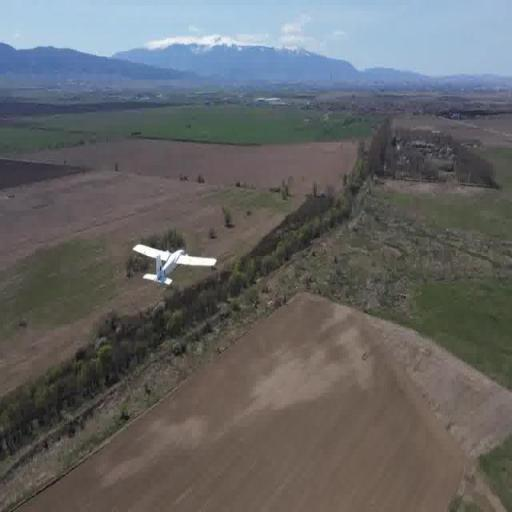uav: (131, 240, 216, 292)
